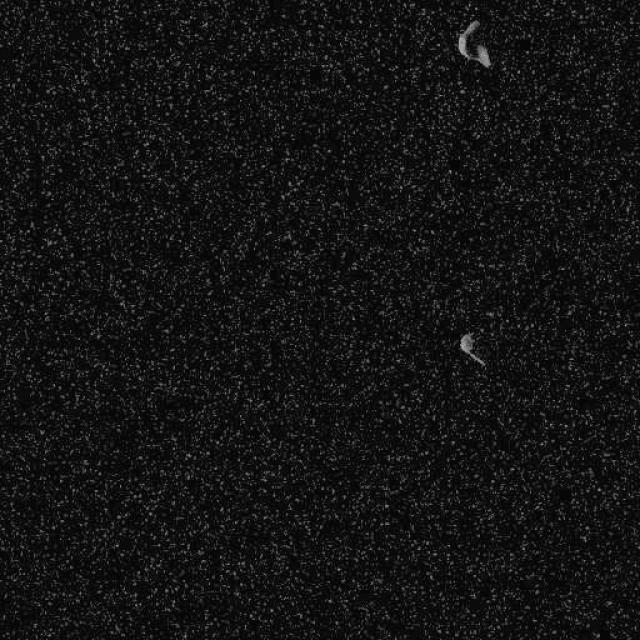D2: (457, 18, 492, 68), (458, 330, 487, 368)
